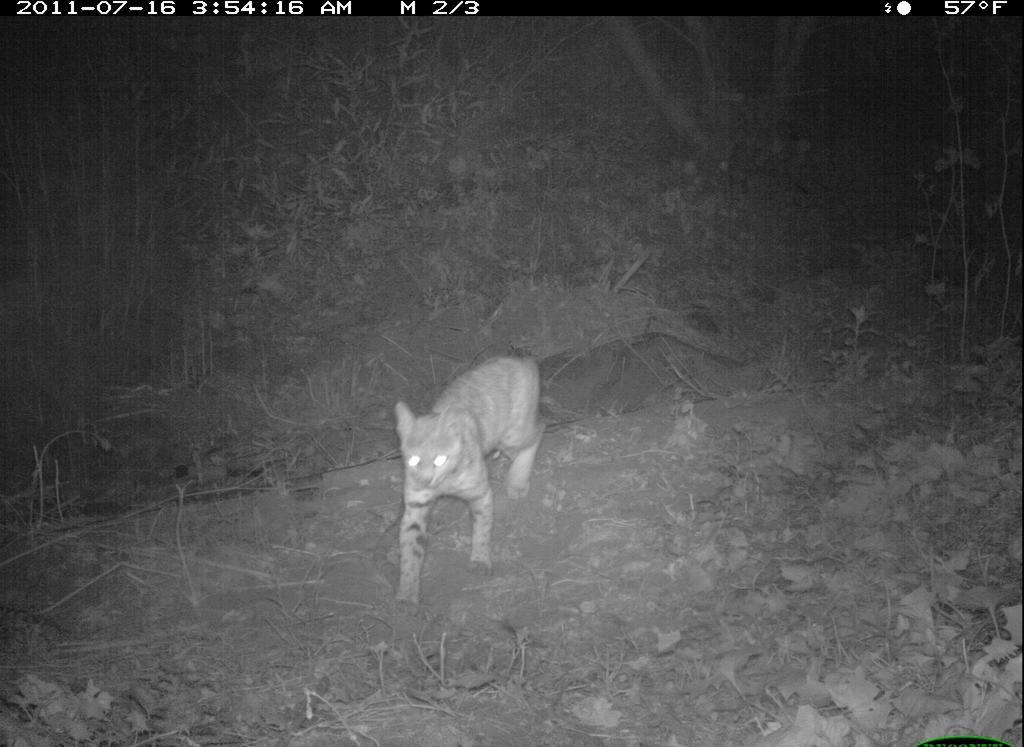bobcat: (382, 327, 559, 611)
